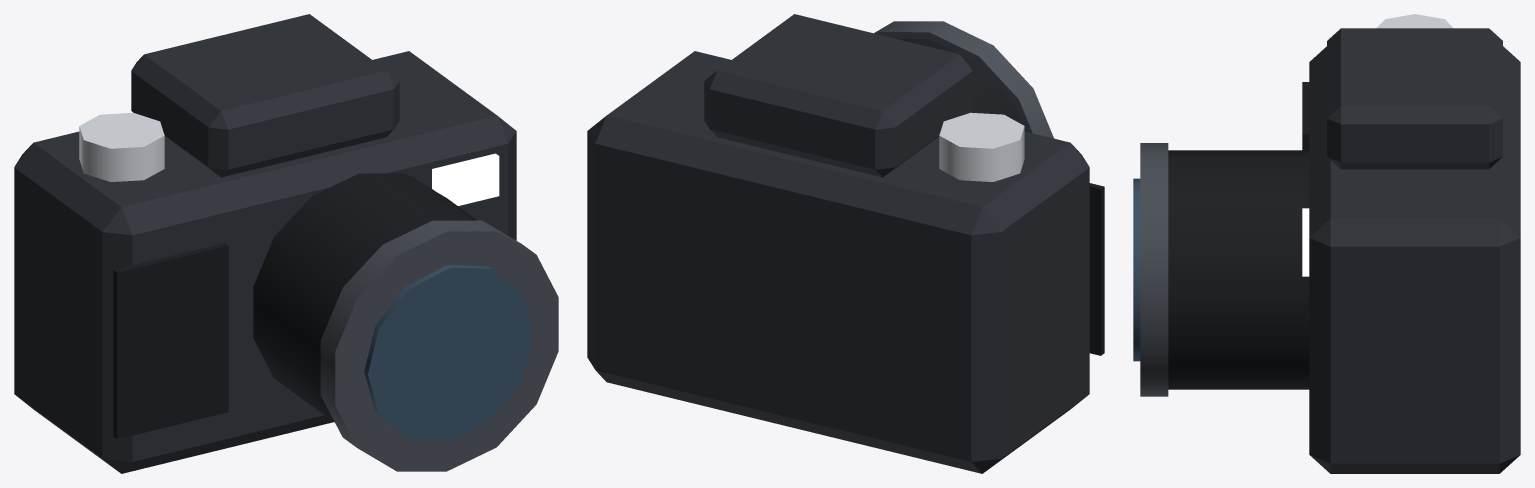
File: camera.glb
3 views of the same model, side by side, from view 1: azimuth 30°, elevation 25°; view 2: azimuth 150°, elevation 25°; view 3: azimuth 270°, elevation 25° (orthographic). The views are drawn at different scales.
Visible parts, largest first — view 1: camera; view 2: camera; view 3: camera.
Part boxes in pixels (x1,y1,x2,y2): camera: (14,14,558,473); camera: (587,14,1104,473); camera: (1133,14,1520,473).
Bounding box in the file's own units: 0.13 × 0.1 × 0.11.
